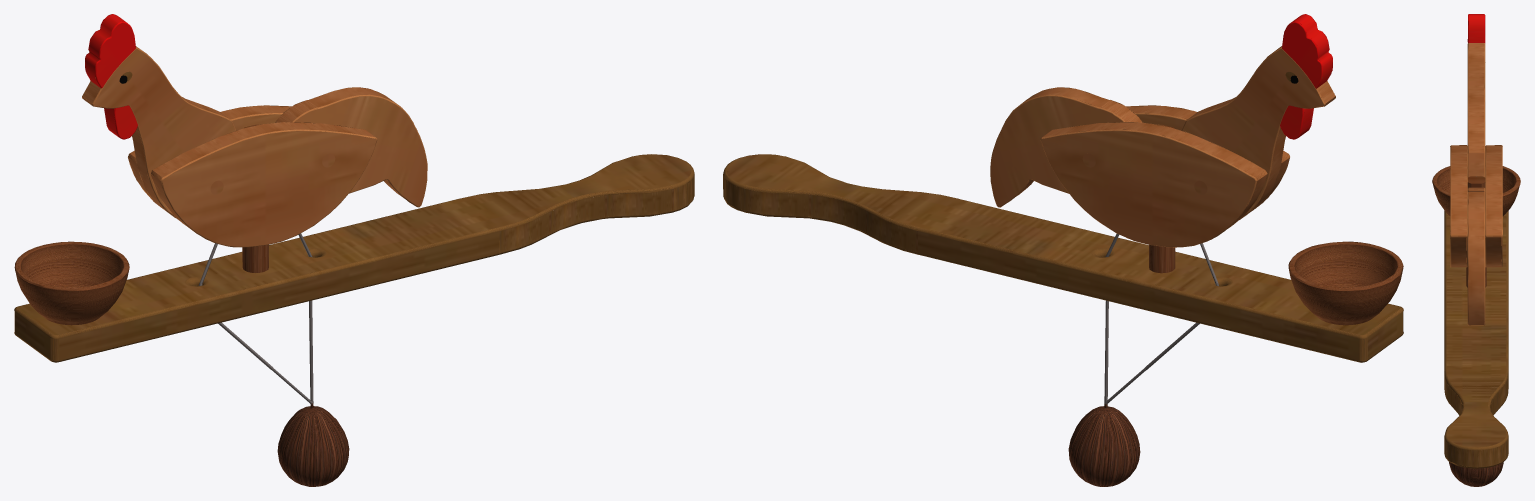
File: obj_pecking_chicken_wooden_toy.glb
3 views of the same model, side by side, from view 1: azimuth 30°, elevation 25°; view 2: azimuth 150°, elevation 25°; view 3: azimuth 270°, elevation 25° (orthographic). The views are drawn at different scales.
Visible parts, largest first — view 1: 3DGeom~10_2_RGB-252,188,131_0; view 2: 3DGeom~10_2_RGB-252,188,131_0; view 3: 3DGeom~10_2_RGB-252,188,131_0.
Part boxes in pixels (x1,y1,x2,y2): 3DGeom~10_2_RGB-252,188,131_0: (14, 14, 694, 486); 3DGeom~10_2_RGB-252,188,131_0: (723, 14, 1403, 486); 3DGeom~10_2_RGB-252,188,131_0: (1432, 14, 1520, 486).
Size of the model in its own units: 0.25 by 0.1843 by 0.0374.
Materials: 8 (7 with a texture image).
